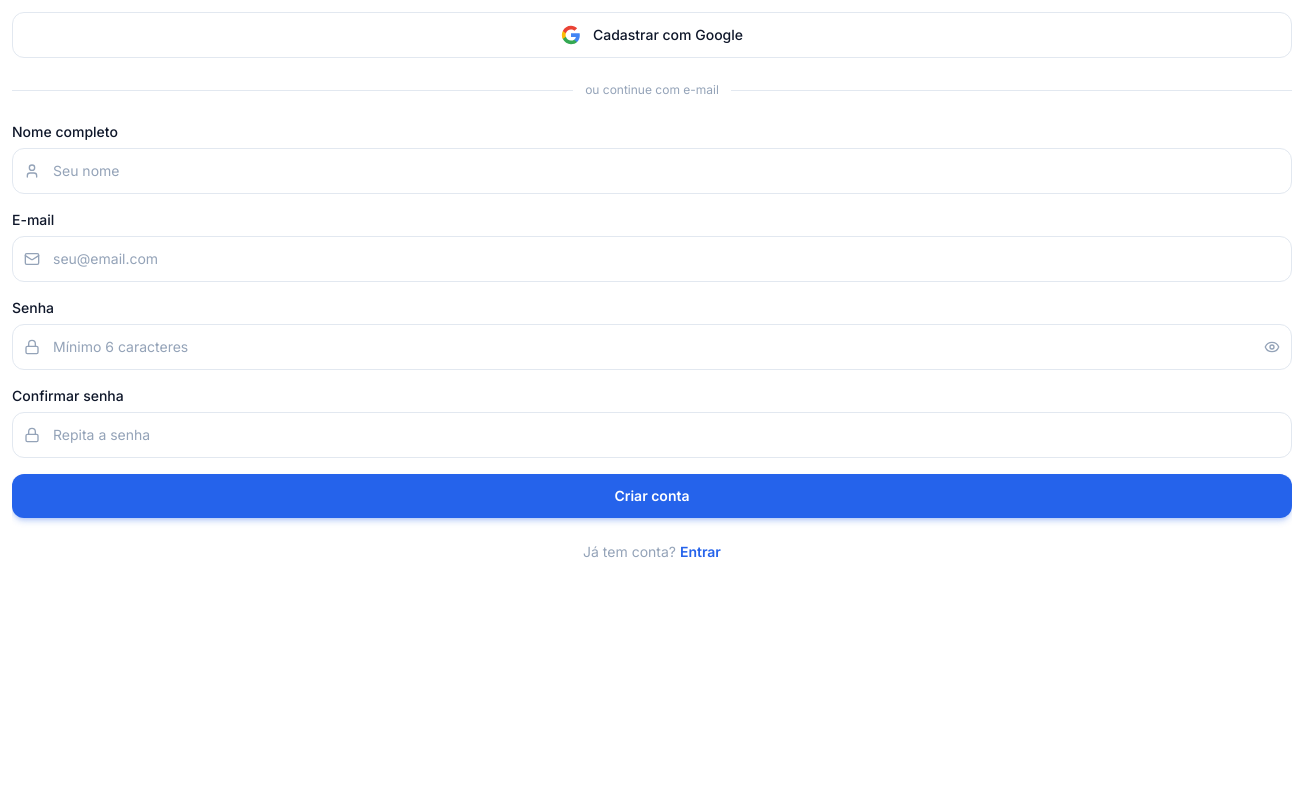
Test: RegisterForm › shows validation error for invalid email on submit
Type "João Silva" into the field labelled "Nome completo".
click(652, 171); type("João Silva")  # box [12,148,1292,194]
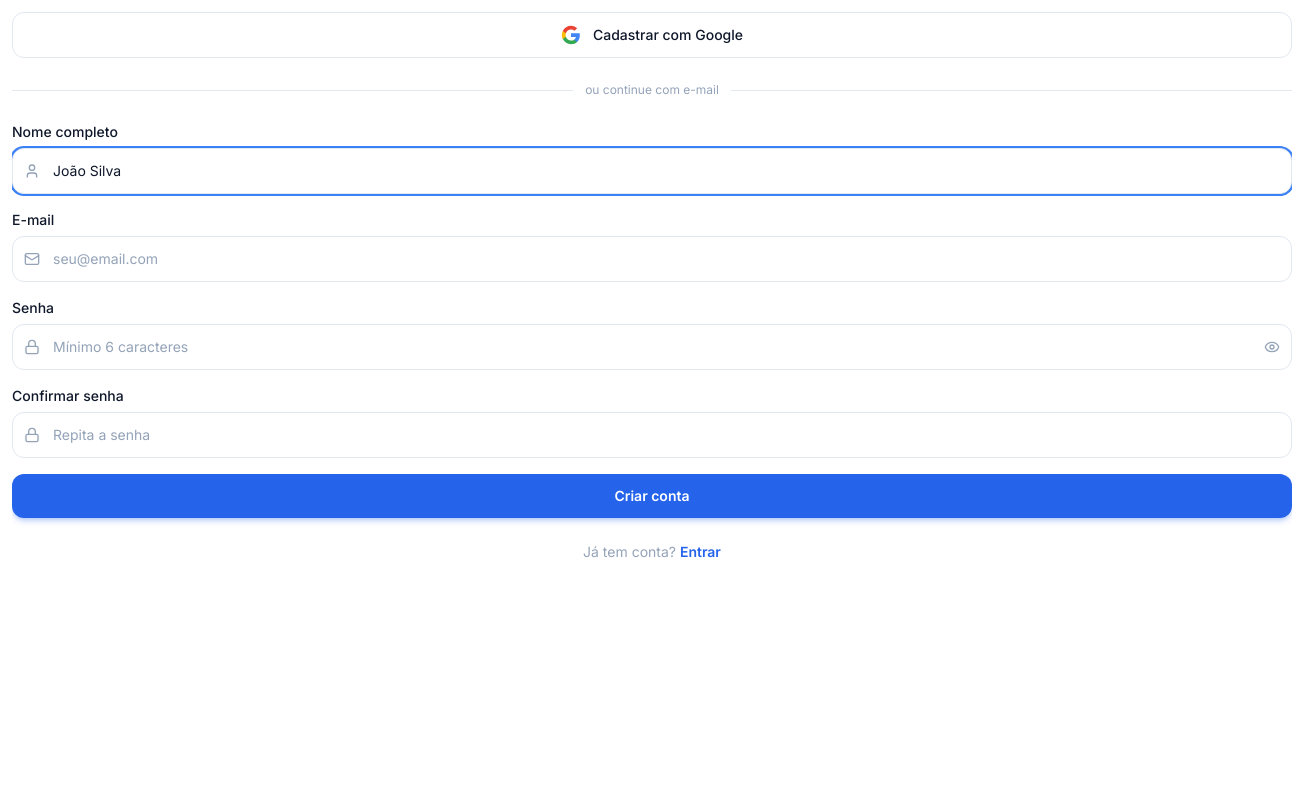
Type "nao-e-email" into the field labelled "E-mail".
click(652, 259); type("nao-e-email")  # box [12,236,1292,282]
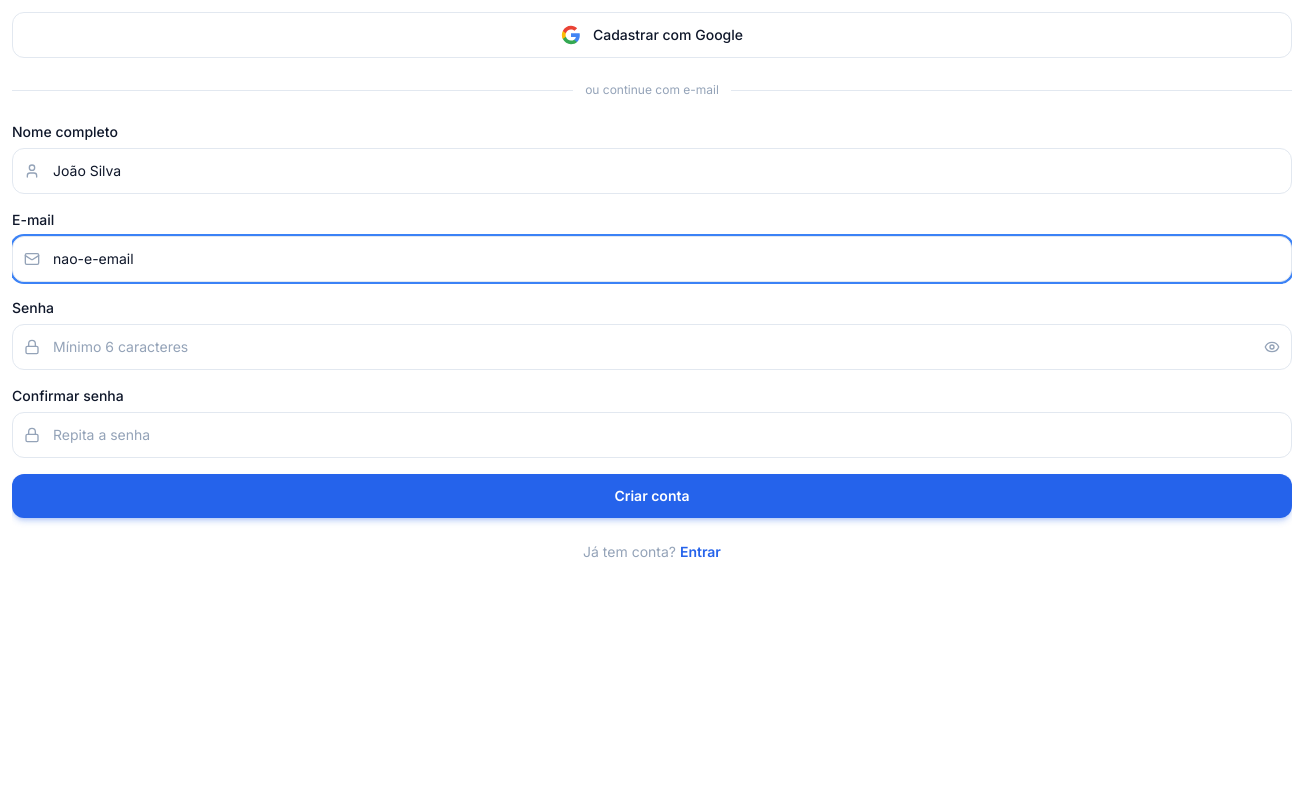
Type "Senh@123" into the password field labelled "Senha".
click(652, 347); type("Senh@123")  # box [12,324,1292,370]
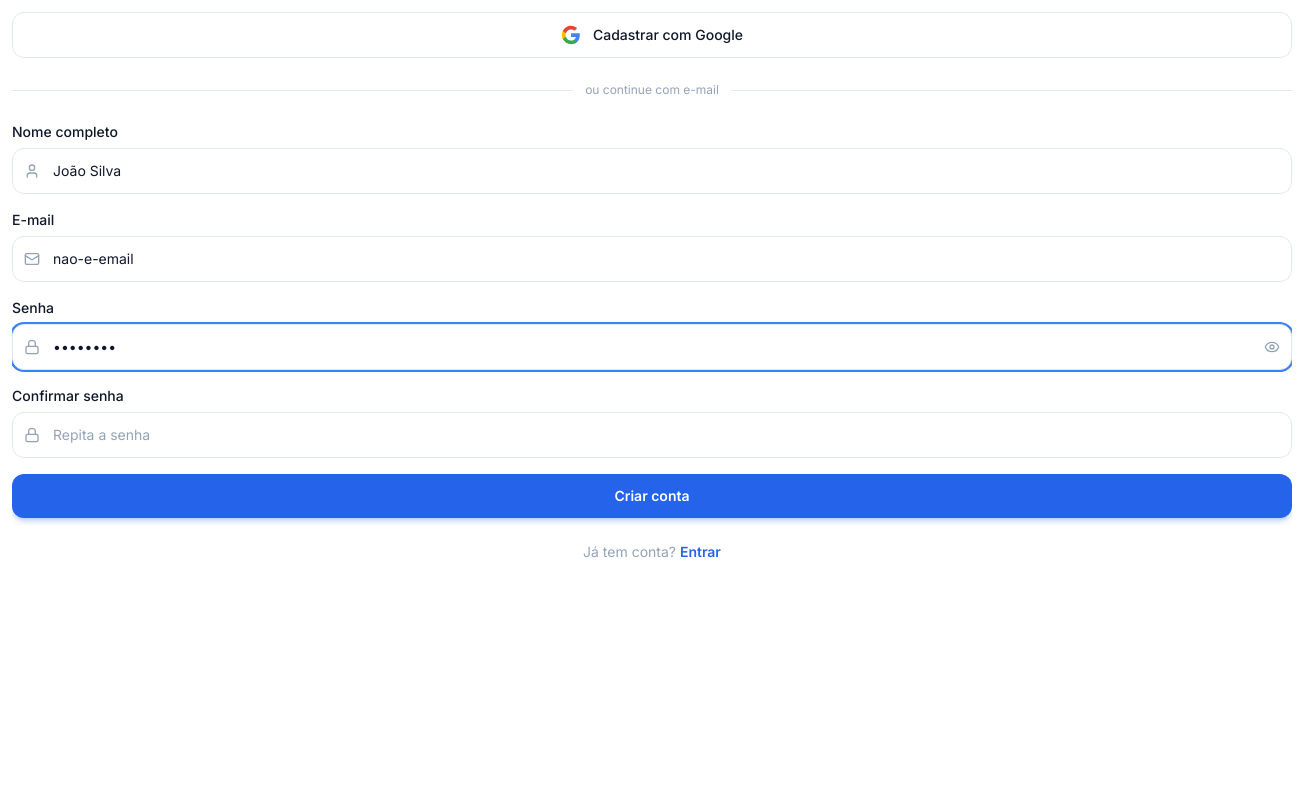
Type "Senh@123" into the password field labelled "Confirmar senha".
click(652, 435); type("Senh@123")  # box [12,412,1292,458]
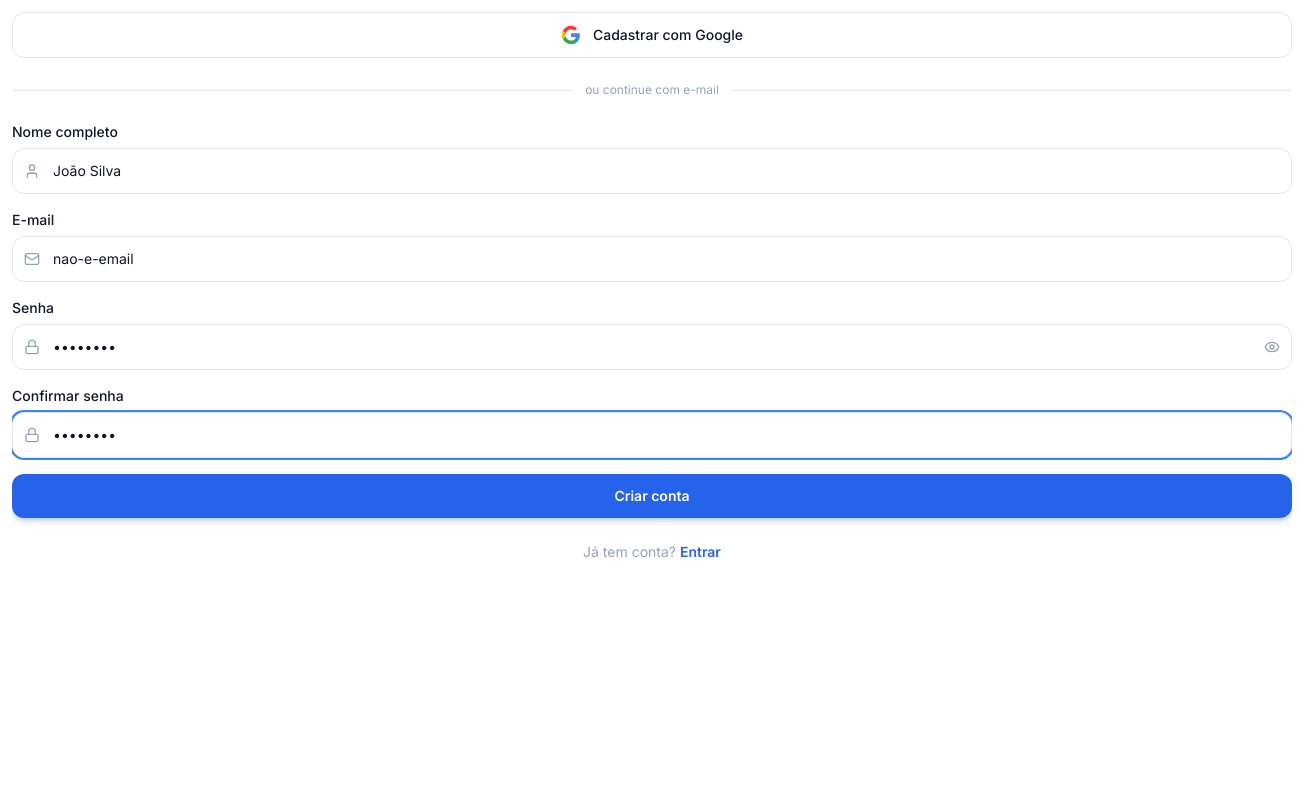
Click the button "Criar conta".
click(652, 496)  # box [12,474,1292,518]
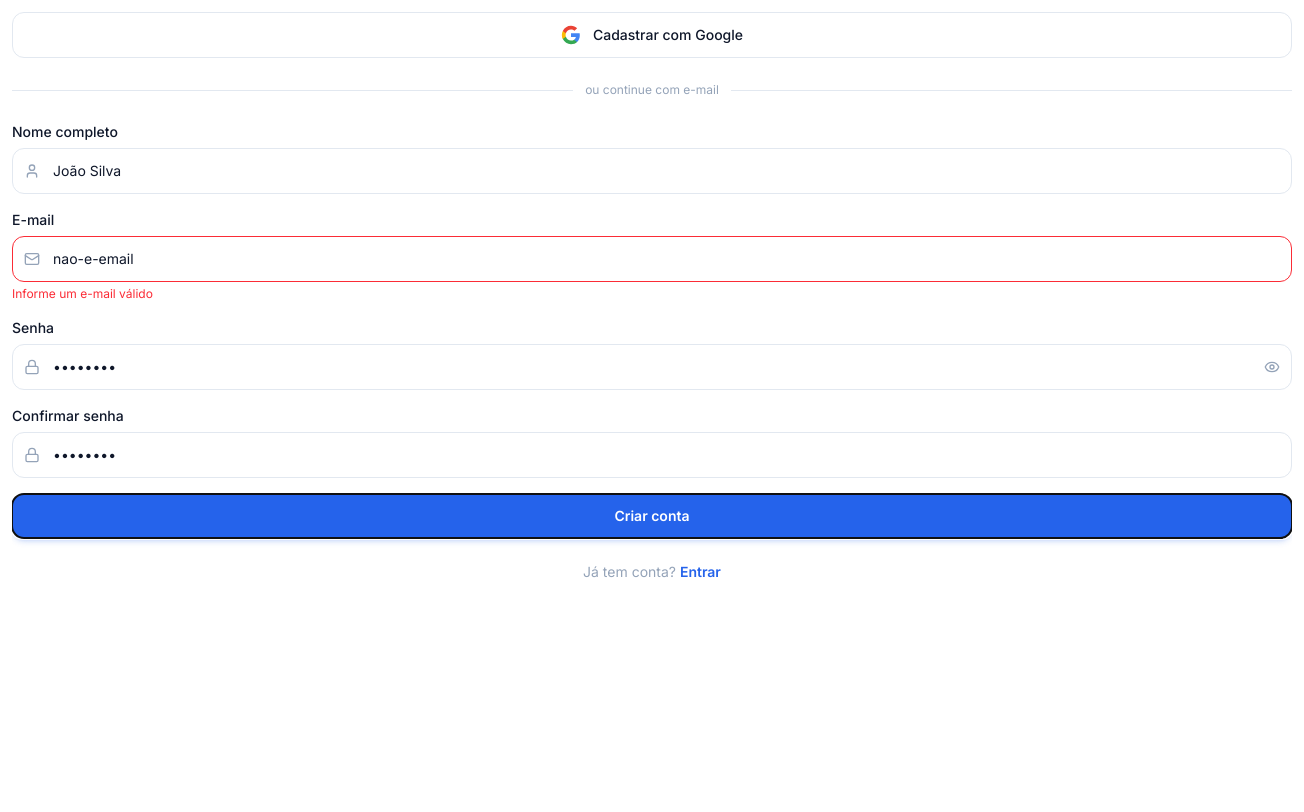
Expected: the text "Informe um e-mail válido" is shown, [12,286,153,301]
